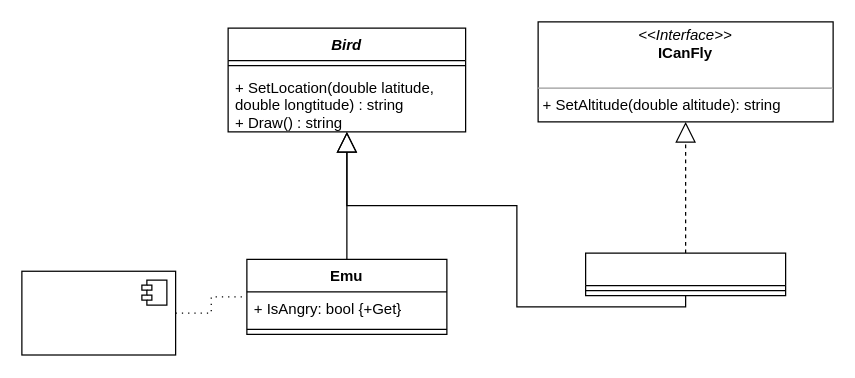
This 855x378 diagram has some shape labels left out. Here are the shapes that lost their labels. From the top down, the centre of each, then its label:
point (685, 274): Pidget
point (98, 312): Emu Is always angry
